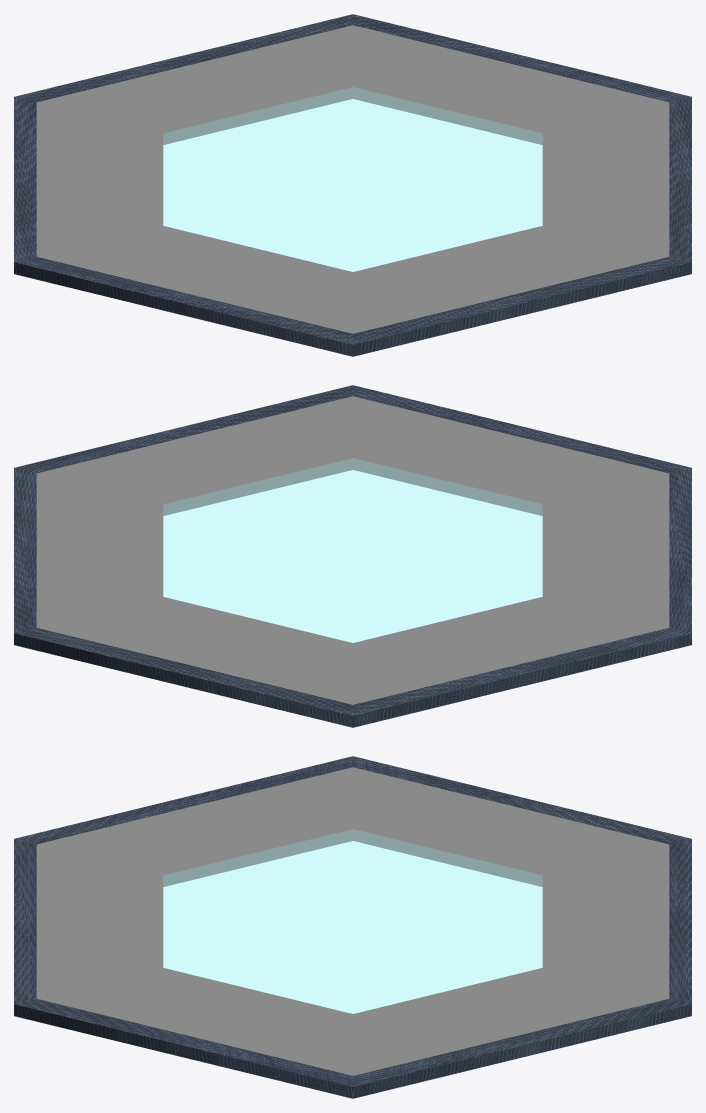
File: SurfaceUnit.FBX
The picture shows the model from 3 angles, top to bottom: view 1: azimuth 30°, elevation 25°; view 2: azimuth 150°, elevation 25°; view 3: azimuth 270°, elevation 25°; orthographic projection.
Parts seen in each view (by area): view 1: Cylinder002; view 2: Cylinder002; view 3: Cylinder002.
Boxes of the visible parts, box(x1,y1,x2,y2) form: Cylinder002: box(14, 14, 691, 356); Cylinder002: box(14, 385, 691, 727); Cylinder002: box(14, 756, 691, 1098).
Size of the model in its own units: 60 by 1 by 51.96.
4 materials, 1 textured.
